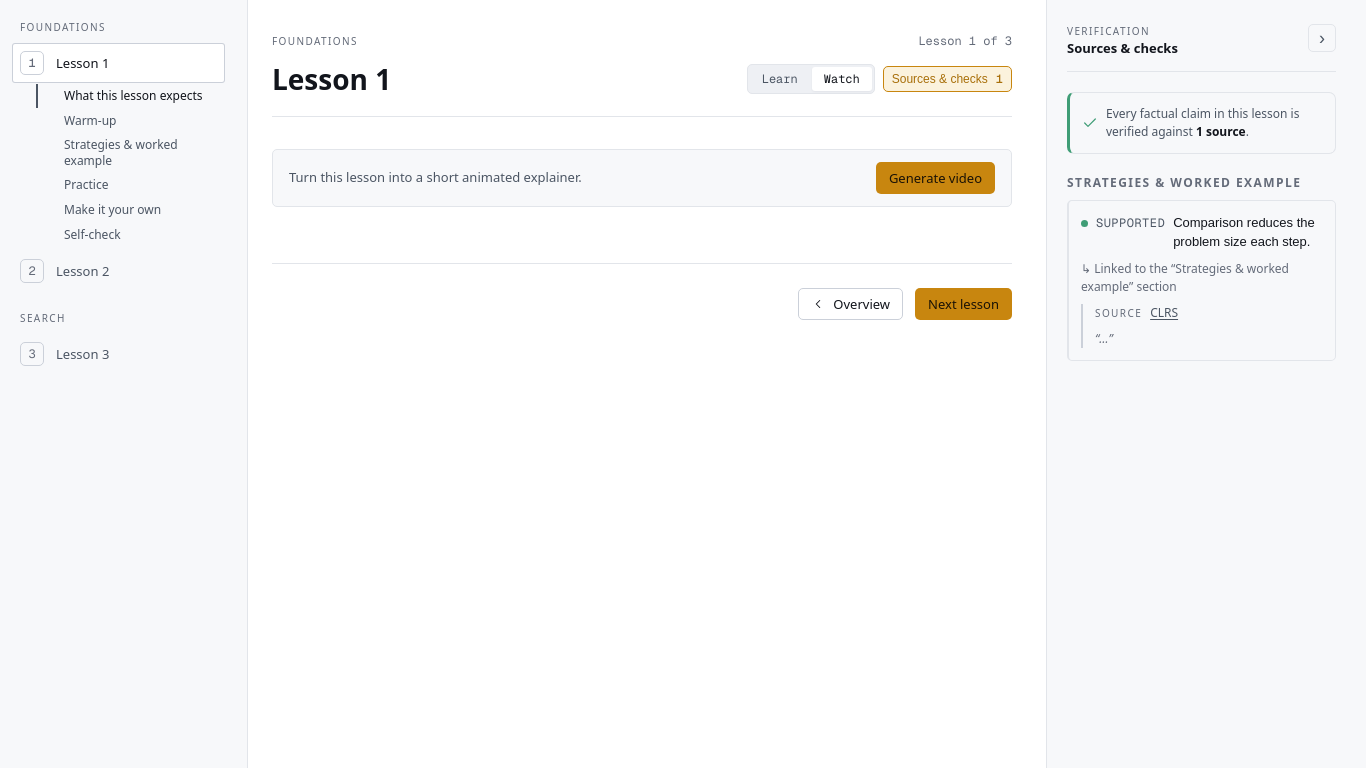
Test: CourseReader — Watch-mode footer navigation › keeps Prev as lesson navigation past the first lesson
Expected: the radio button labelled "Watch" is shown, [812,67,872,91]
What coordinates should you click on to do the following:
click the button "Next lesson"
I would click on:
 (964, 304)
Its box is [915,288,1012,320].
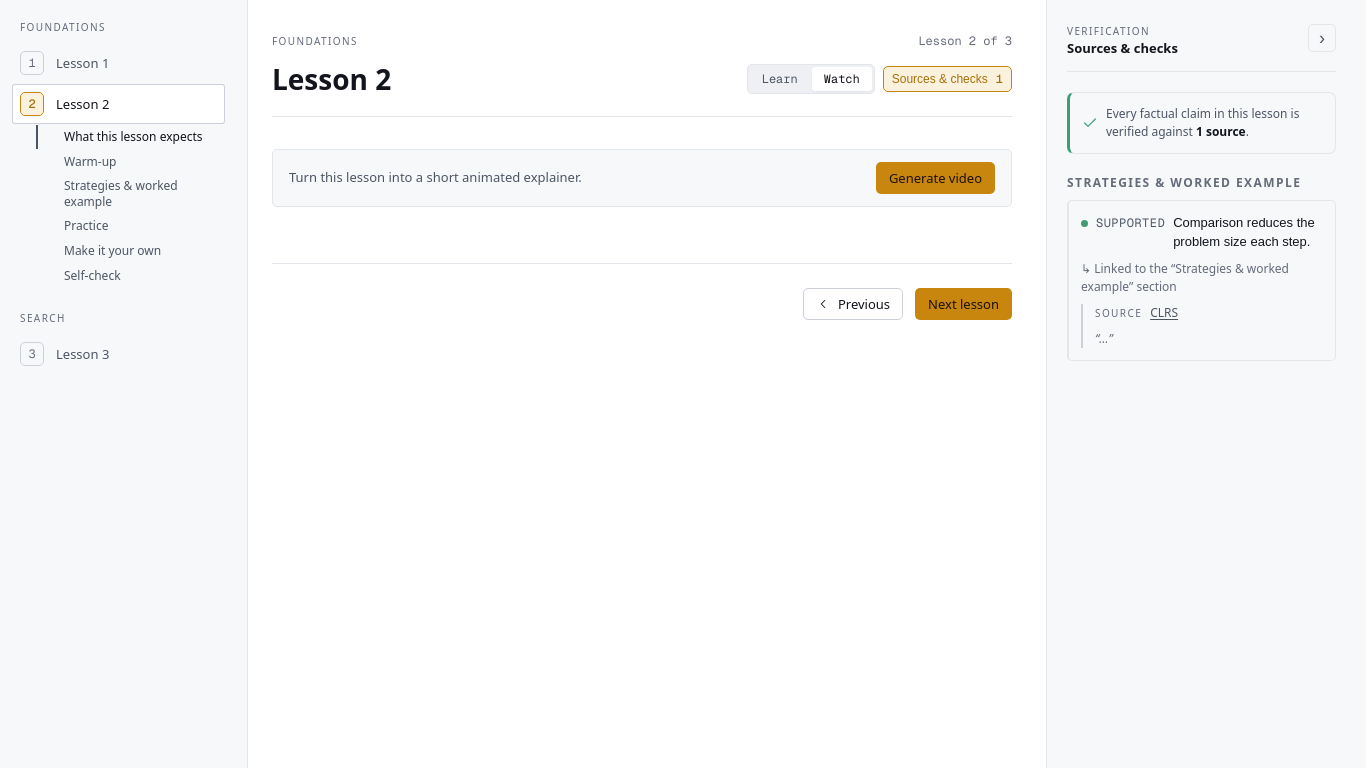
What coordinates should you click on to do the following:
click the button with aria-label "previous lesson"
I would click on:
 (853, 304)
Its box is [803,288,903,320].
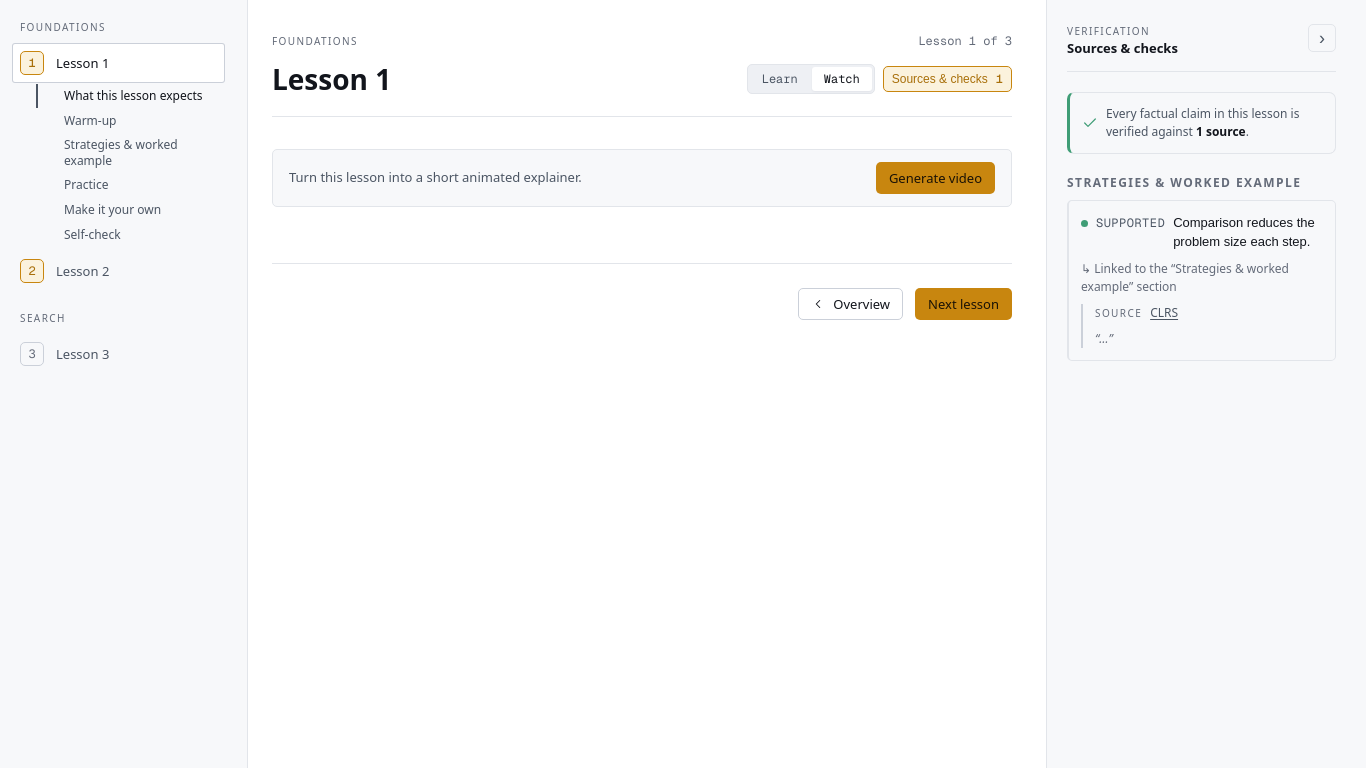
Now the text "Lesson 1 of 3" is shown, box [918,32,1012,50]
